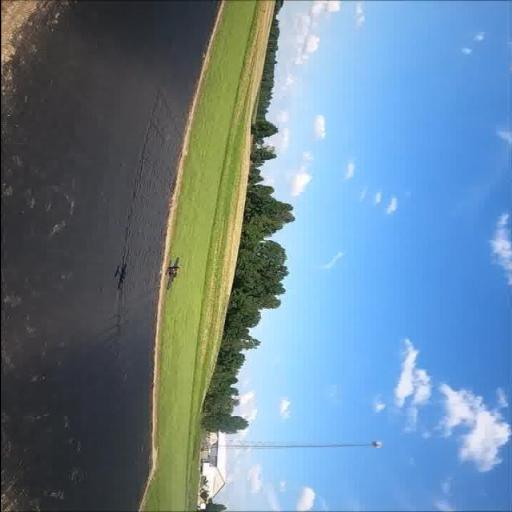uav: (159, 256, 190, 294)
